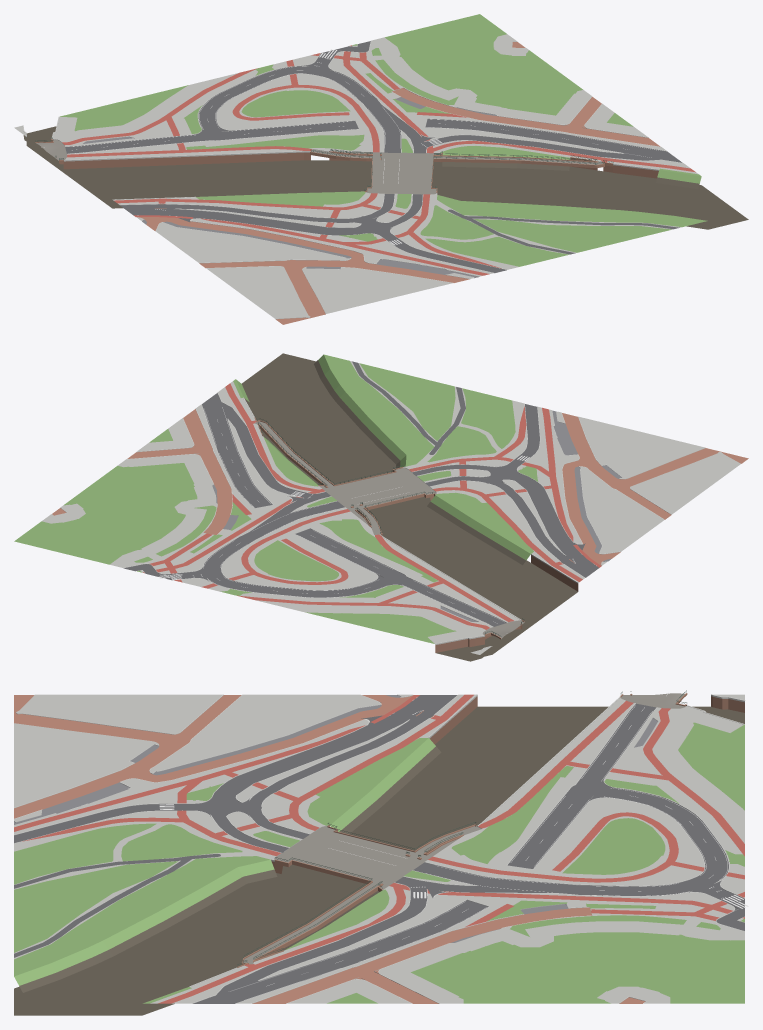
The model's file is ground_11_9.glb.
3 views of the same model, one above another, from view 1: azimuth 30°, elevation 25°; view 2: azimuth 150°, elevation 25°; view 3: azimuth 270°, elevation 25° (orthographic). The views are drawn at different scales.
Parts seen in each view (by area): view 1: ground_11_9; view 2: ground_11_9; view 3: ground_11_9.
Boxes of the visible parts, <box> form: ground_11_9: <box>14,14,748,324</box>; ground_11_9: <box>14,353,748,661</box>; ground_11_9: <box>14,690,748,1015</box>.
Size of the model in its own units: 200 by 4.93 by 201.
